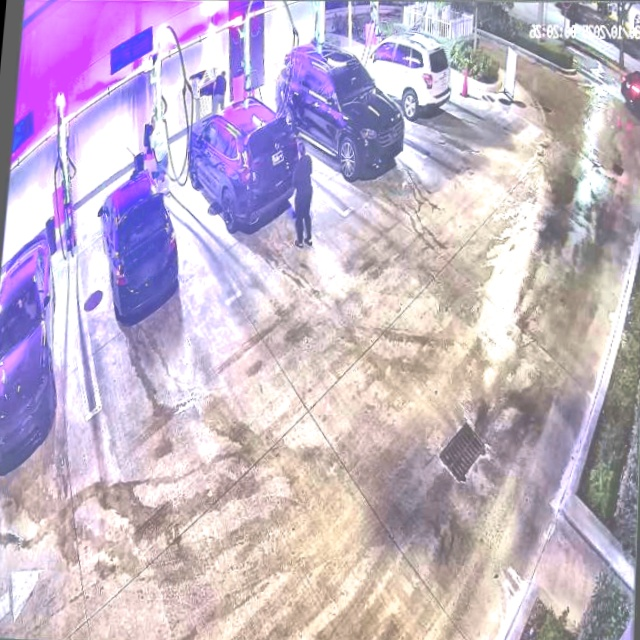Car: (273, 38, 407, 183), (182, 99, 305, 236), (89, 164, 186, 323)
